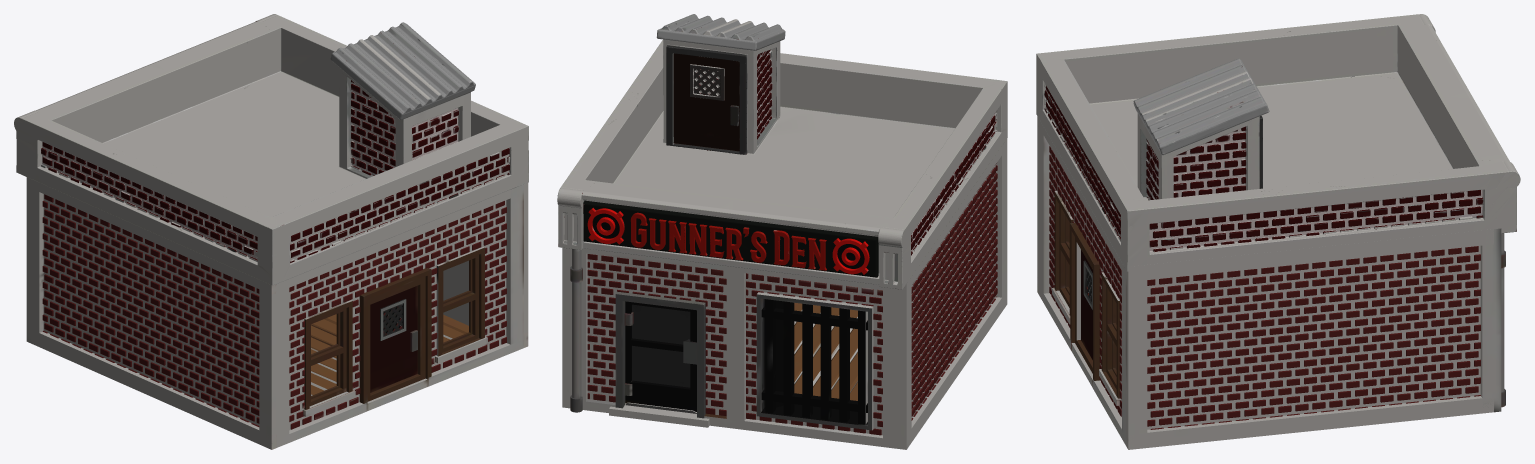
Rendered from gunners-den-size-3.glb.
The picture shows the model from 3 angles, left to right: view 1: azimuth 30°, elevation 25°; view 2: azimuth 150°, elevation 25°; view 3: azimuth 270°, elevation 25°; orthographic projection. The views are drawn at different scales.
Visible parts, largest first — view 1: Gun Store Roof V2, Gun Store Lower with windows and doors V4; view 2: Gun Store Roof V2, Gun Store Lower with windows and doors V4, Gun Store Sign; view 3: Gun Store Roof V2, Gun Store Lower with windows and doors V4.
Part boxes in pixels (x1,y1,x2,y2): Gun Store Roof V2: (14, 14, 528, 285); Gun Store Lower with windows and doors V4: (26, 78, 528, 449); Gun Store Roof V2: (557, 14, 1007, 289); Gun Store Lower with windows and doors V4: (562, 138, 1007, 449); Gun Store Sign: (583, 200, 878, 277); Gun Store Roof V2: (1036, 14, 1520, 271); Gun Store Lower with windows and doors V4: (1037, 81, 1505, 449).
Size of the model in its own units: 19.94 by 14.97 by 20.6.
3 materials, 3 textured.
